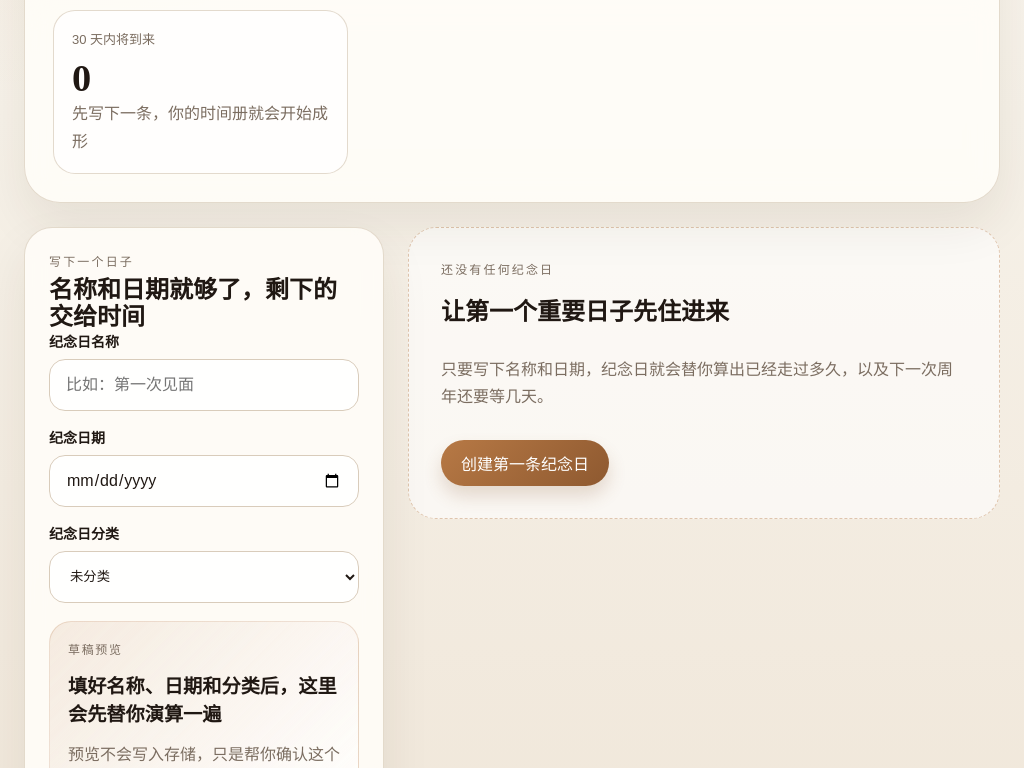
Test: AnniversaryForm › 未来日期时阻止提交并保持非成功态预览
(page scrolled)
Type "未来旅行" into the field labelled "纪念日名称" at (204, 384), box [49, 358, 359, 410]
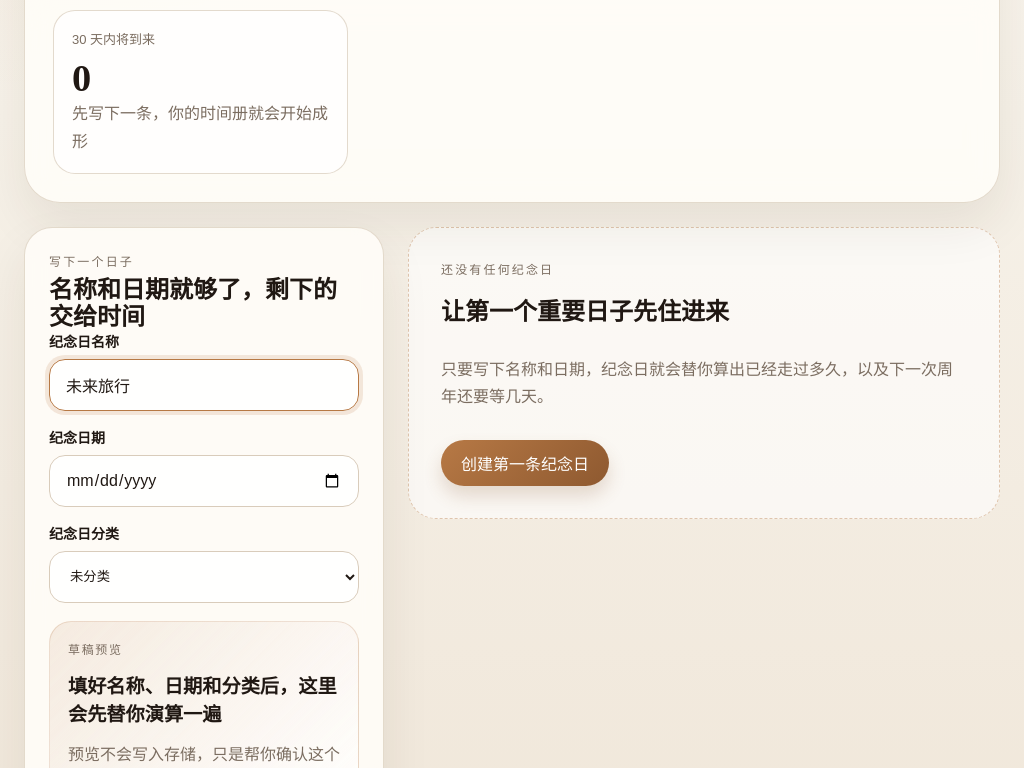
Type "2026-03-28" into the date field labelled "纪念日期" at (204, 480), box [49, 454, 359, 506]
(page scrolled)
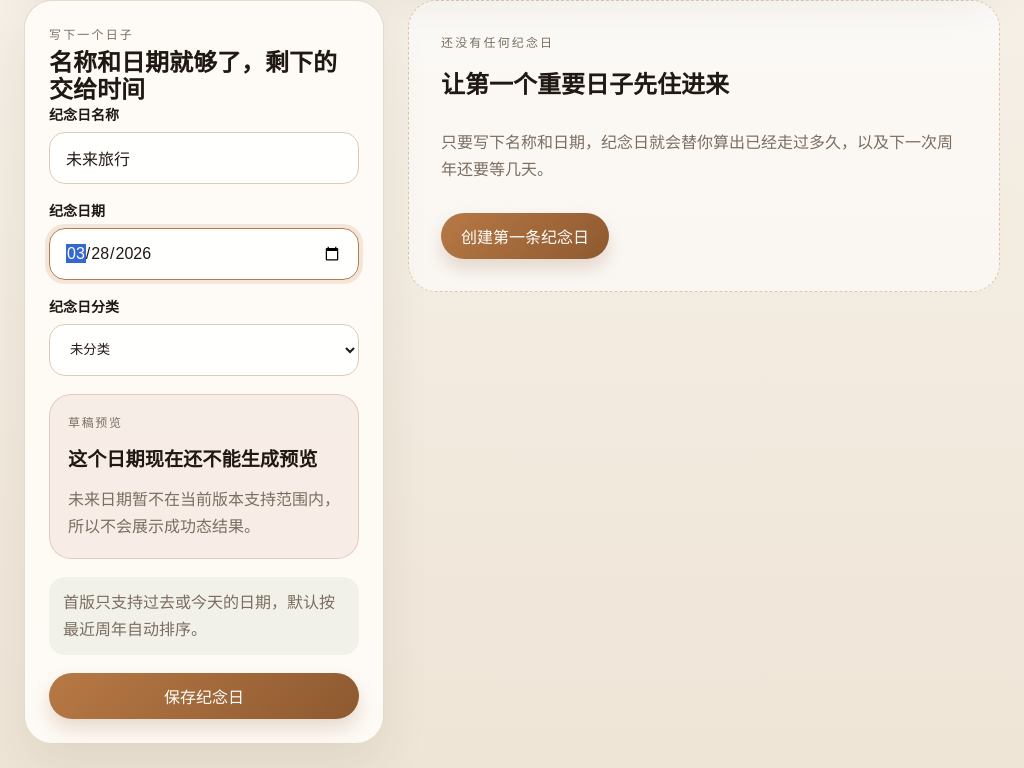
Check: the heading "这个日期现在还不能生成预览" is shown, box [68, 444, 340, 472]
Click the button "保存纪念日" at (204, 696), box [49, 673, 359, 719]
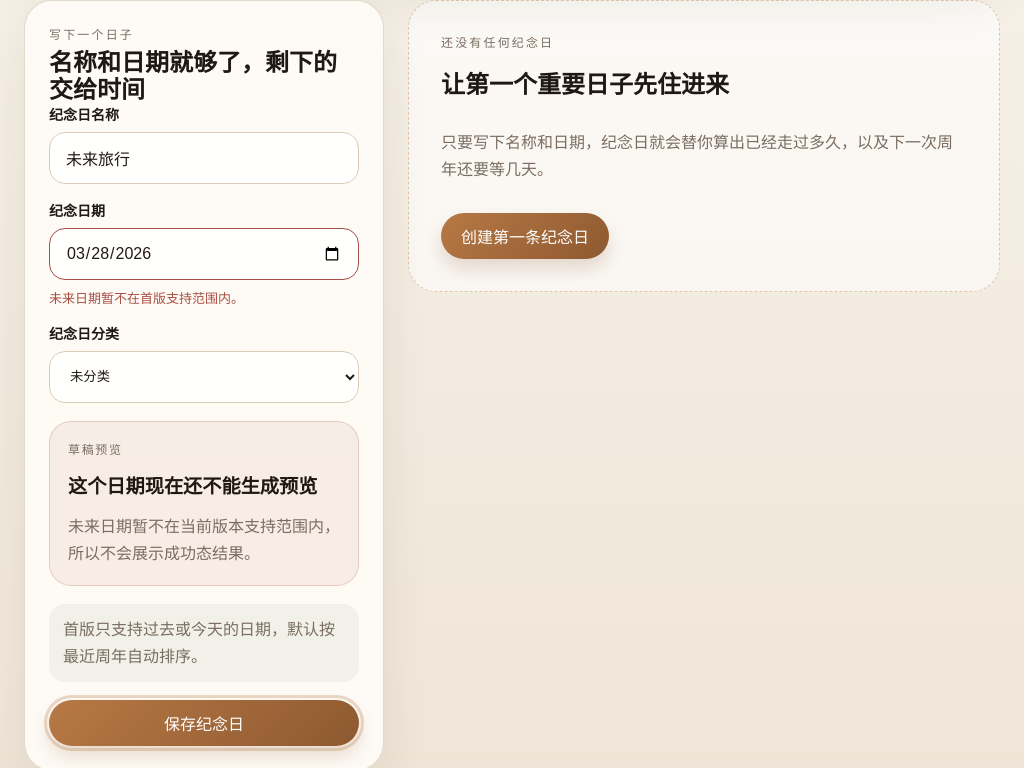
Check: the text "未来日期暂不在首版支持范围内。" is shown, box [49, 290, 244, 306]
